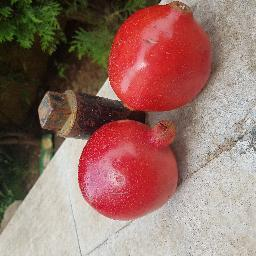Good_pomegranate: (108, 1, 215, 113), (75, 119, 187, 220)
